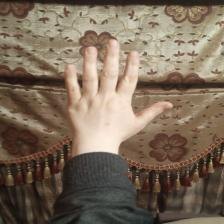five: (64, 38, 175, 152)
